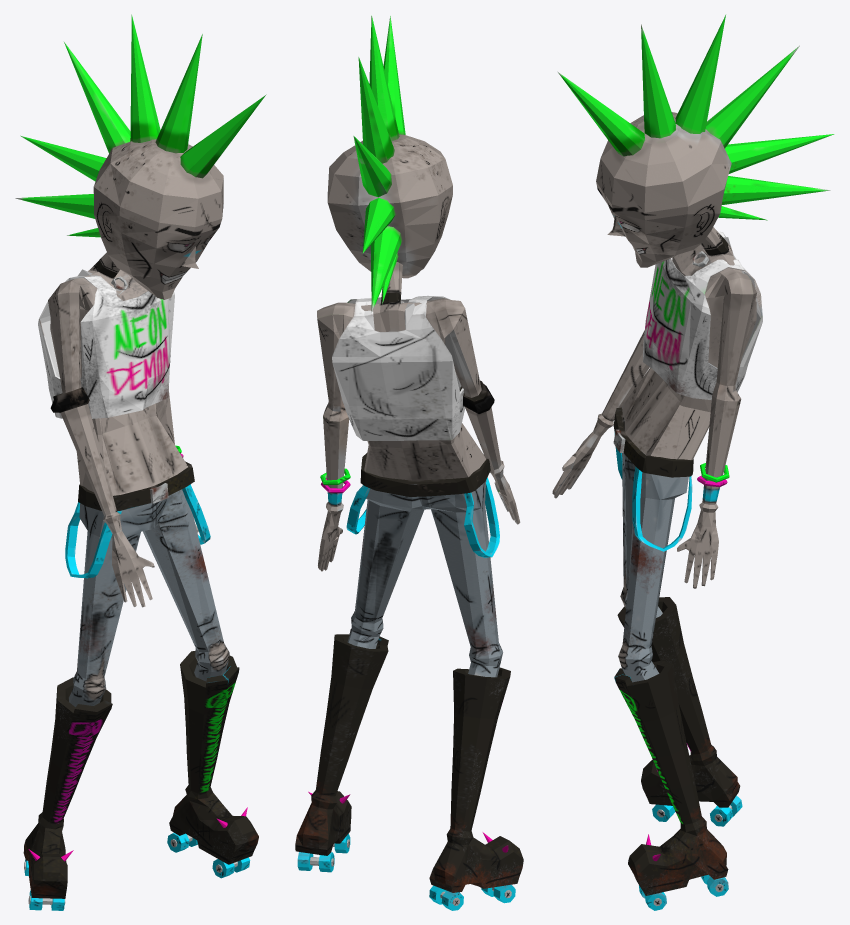
The model's file is punkAnimation_000018.obj.
3 views of the same model, side by side, from view 1: azimuth 30°, elevation 25°; view 2: azimuth 150°, elevation 25°; view 3: azimuth 270°, elevation 25° (orthographic). The views are drawn at different scales.
Parts seen in each view (by area): view 1: Cube.004_Cube.003; view 2: Cube.004_Cube.003; view 3: Cube.004_Cube.003.
Boxes of the visible parts, <box> form: Cube.004_Cube.003: <box>15,14,266,910</box>; Cube.004_Cube.003: <box>295,15,523,910</box>; Cube.004_Cube.003: <box>552,15,834,910</box>.
Size of the model in its own units: 1.96 by 7.4 by 2.2.
